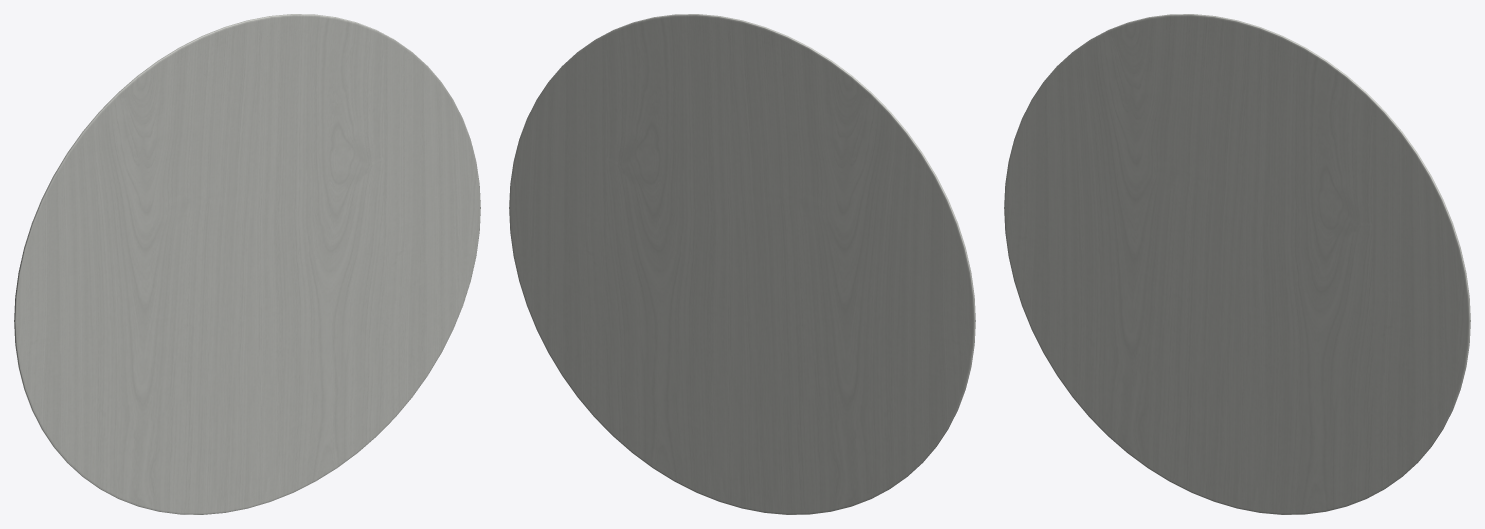
File: l63_wood_button.fbx
3 views of the same model, side by side, from view 1: azimuth 30°, elevation 25°; view 2: azimuth 150°, elevation 25°; view 3: azimuth 330°, elevation 25° (orthographic).
Parts seen in each view (by area): view 1: L63_wood_button; view 2: L63_wood_button; view 3: L63_wood_button.
Boxes of the visible parts, x1,y1,x2,y2 form: L63_wood_button: (14, 14, 480, 514); L63_wood_button: (509, 14, 975, 514); L63_wood_button: (1004, 14, 1470, 514).
Bounding box in the file's own units: 0.4 × 0.4 × 0.002.
1 material, 1 textured.
